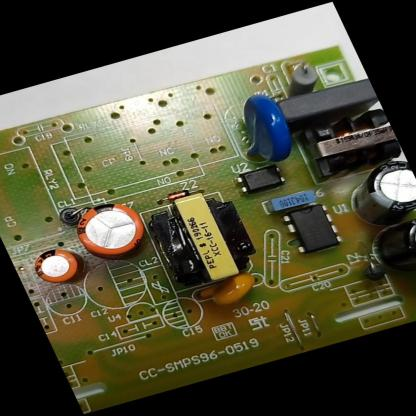Cap1: (60, 193, 156, 266)
Cap2: (24, 239, 87, 291)
Cap3: (332, 156, 416, 232)
Cap4: (358, 209, 416, 284)
MOSFET: (275, 199, 347, 258)
Mov: (217, 88, 303, 171)
Resistor: (276, 57, 326, 97)
Transformer: (139, 181, 269, 295), (291, 102, 405, 181)
